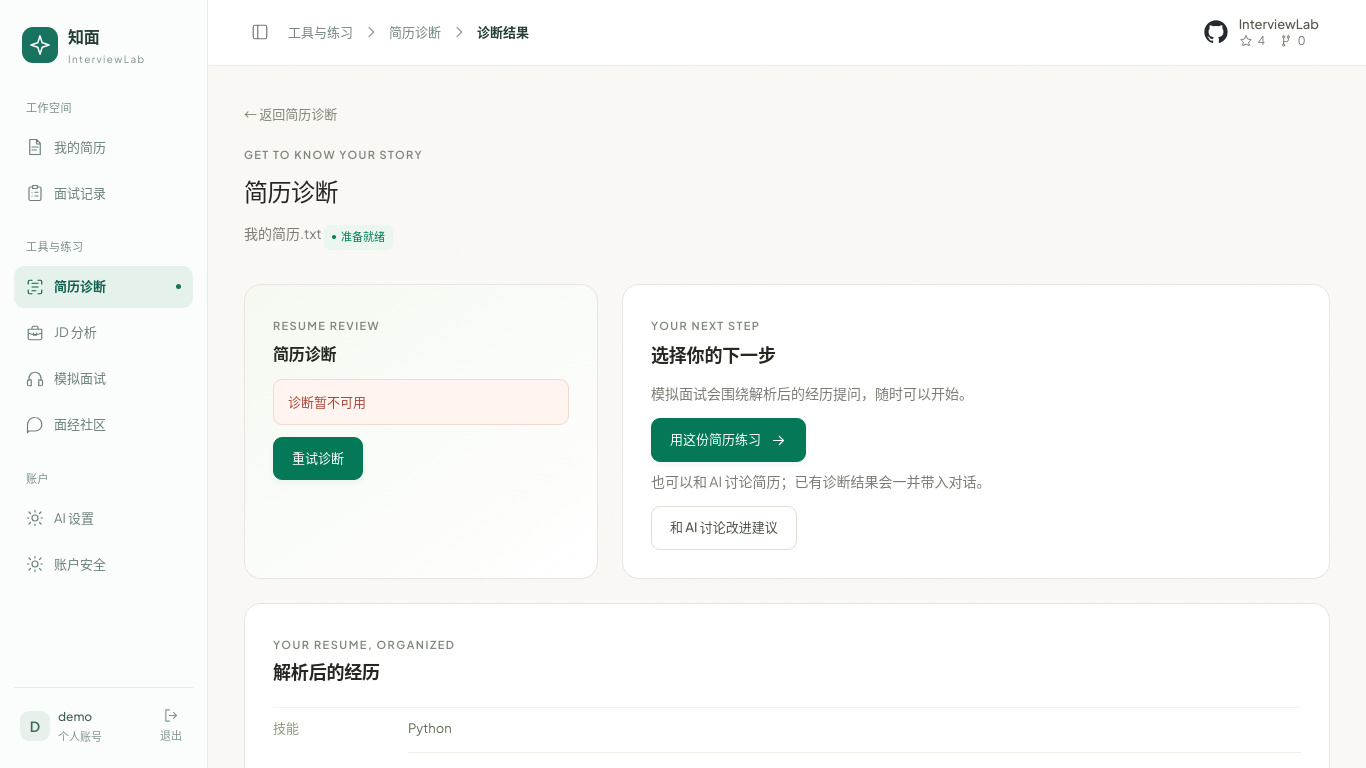
Test: platform user flows › retries only the diagnosis after it fails
Step 1. Click the button "重试诊断" → x=318, y=459, box top-left (273, 437), bottom-right (363, 480)
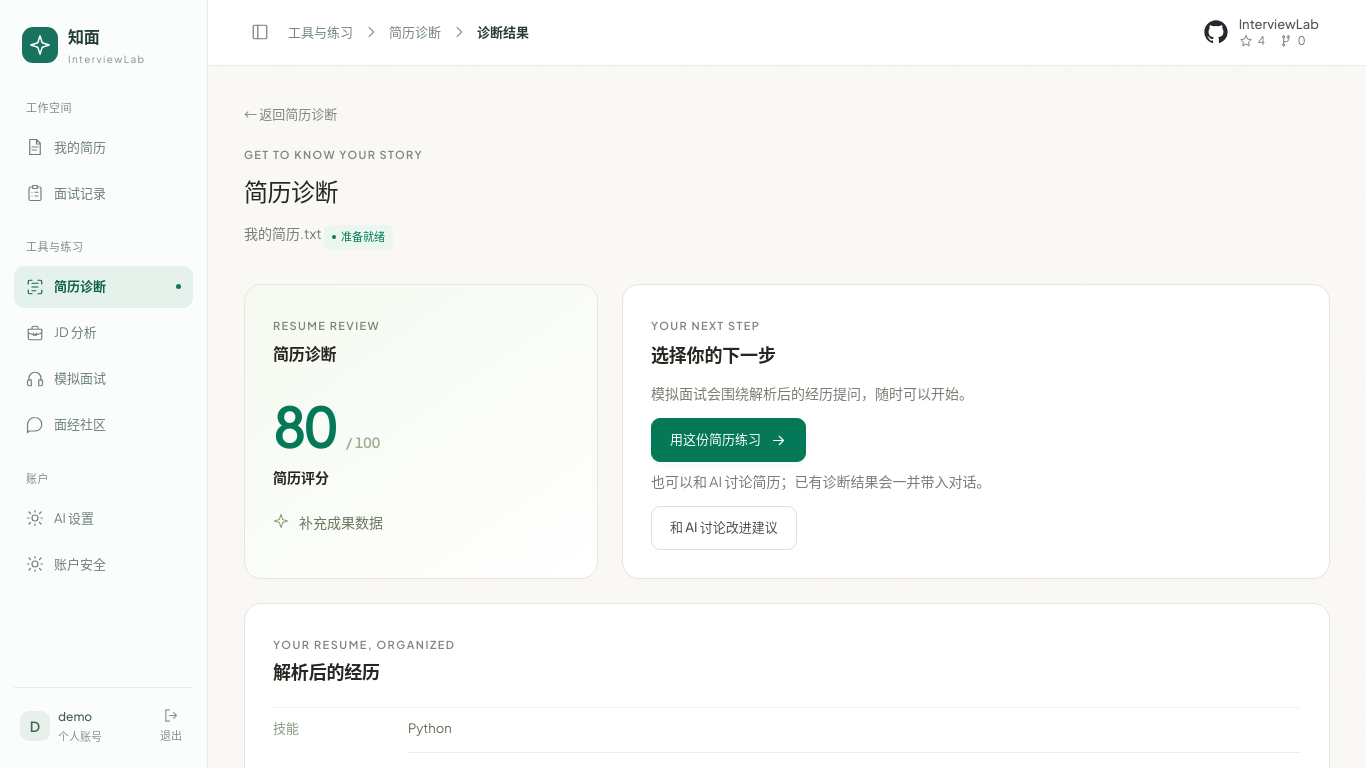
Now the text "补充成果数据" is shown, box top-left (299, 509), bottom-right (383, 535)
